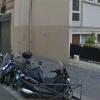Motorcycle: (2, 44, 79, 100)
